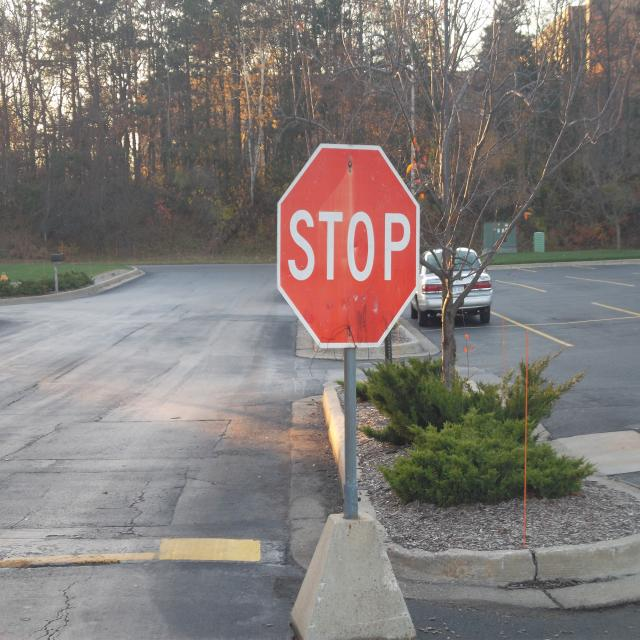stop: (273, 134, 427, 354)
